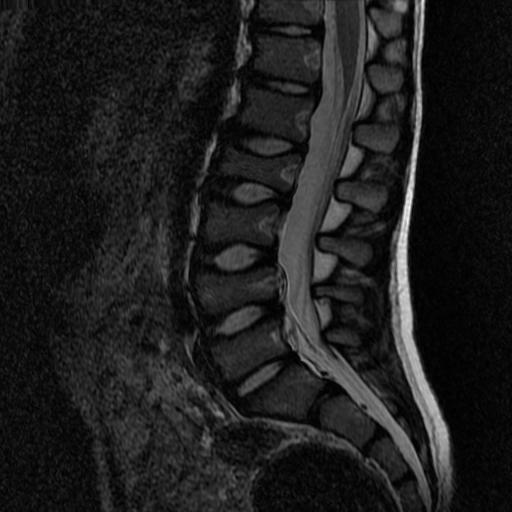D1: (221, 117, 308, 159)
